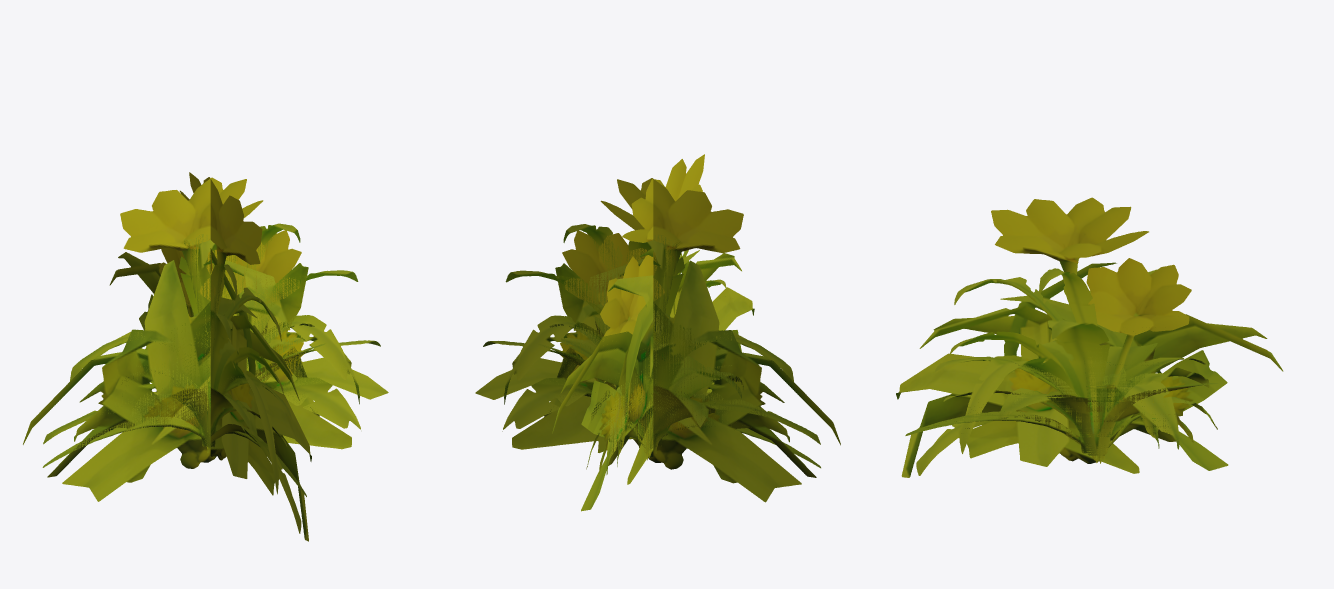
Rendered from ITP_RBRN_KUSAGRP.fbx.
3 views of the same model, side by side, from view 1: azimuth 30°, elevation 25°; view 2: azimuth 150°, elevation 25°; view 3: azimuth 270°, elevation 25° (orthographic). The views are drawn at different scales.
Parts seen in each view (by area): view 1: ITP_RBRN_KUSA_2, ITP_RBRN_KUSA_1, ITP_RBRN_KUSA_0; view 2: ITP_RBRN_KUSA_2, ITP_RBRN_KUSA_1, ITP_RBRN_KUSA_0; view 3: ITP_RBRN_KUSA_0, ITP_RBRN_KUSA_2, ITP_RBRN_KUSA_1.
Part boxes in pixels (<box>): ITP_RBRN_KUSA_2: <box>23,248,388,541</box>; ITP_RBRN_KUSA_1: <box>43,223,380,533</box>; ITP_RBRN_KUSA_0: <box>42,172,325,496</box>; ITP_RBRN_KUSA_2: <box>475,248,840,511</box>; ITP_RBRN_KUSA_1: <box>483,224,820,474</box>; ITP_RBRN_KUSA_0: <box>539,154,820,468</box>; ITP_RBRN_KUSA_0: <box>905,197,1218,455</box>; ITP_RBRN_KUSA_2: <box>896,262,1283,477</box>; ITP_RBRN_KUSA_1: <box>916,268,1217,475</box>.
Size of the model in its own units: 3.61 by 3.52 by 3.58.
